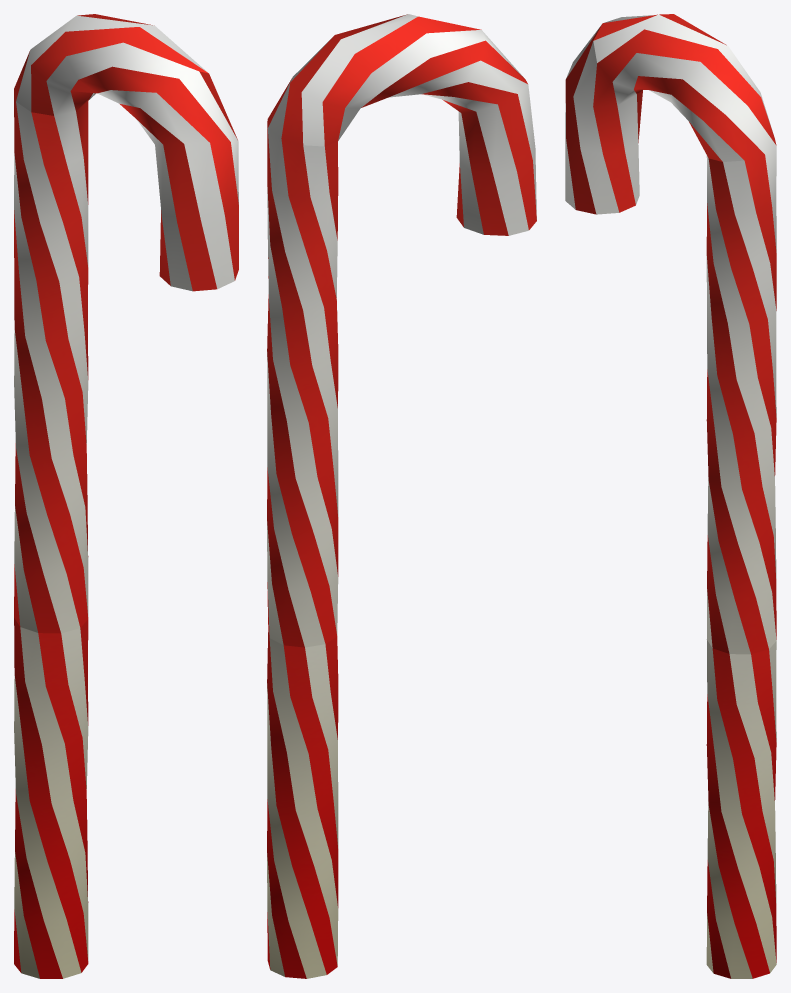
The model's file is BigSugarCane.fbx.
The picture shows the model from 3 angles, left to right: view 1: azimuth 90°, elevation 25°; view 2: azimuth 150°, elevation 25°; view 3: azimuth 270°, elevation 25°; orthographic projection. The views are drawn at different scales.
Visible parts, largest first — view 1: cane_final; view 2: cane_final; view 3: cane_final.
Part boxes in pixels (box(x1,y1,x2,y2)): cane_final: box(14, 14, 238, 978); cane_final: box(267, 14, 536, 978); cane_final: box(565, 14, 776, 978).
Size of the model in its own units: 1.36 by 6.34 by 1.33.
